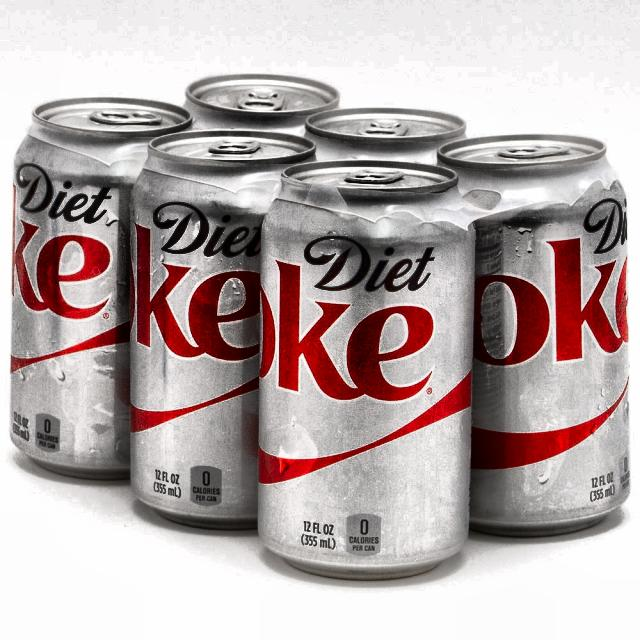Cans: (254, 146, 476, 582), (426, 119, 638, 546), (126, 123, 326, 541), (6, 92, 204, 486), (297, 83, 478, 494), (151, 50, 324, 476)
